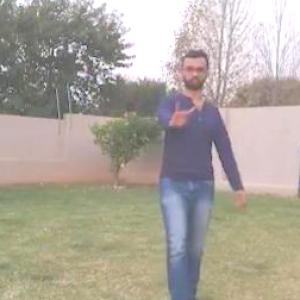takeoff-hand: (164, 95, 198, 135)
